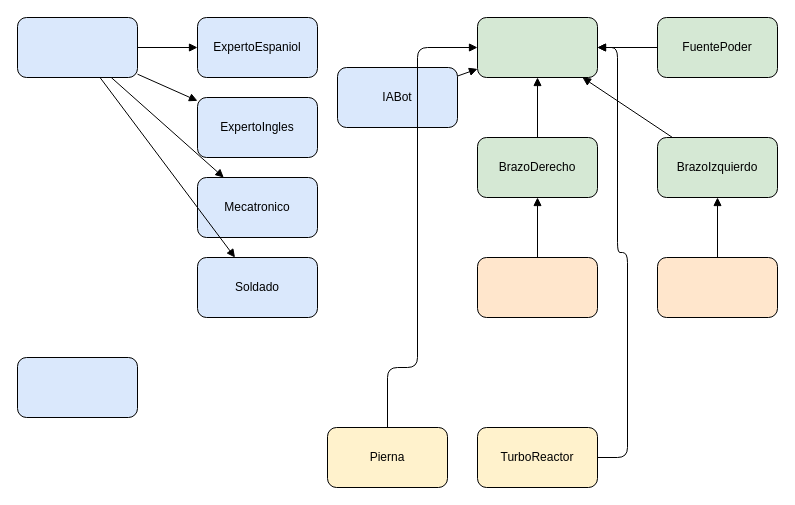
This 795x505 diagram has some shape labels left out. The centre of each missing label's shape, as x and y in pixels:
"Exobot" goes at point (537, 47).
"Humano" goes at point (77, 47).
"Laser" goes at point (537, 287).
"Metralleta" goes at point (717, 287).
"Whiterun" goes at point (77, 387).
